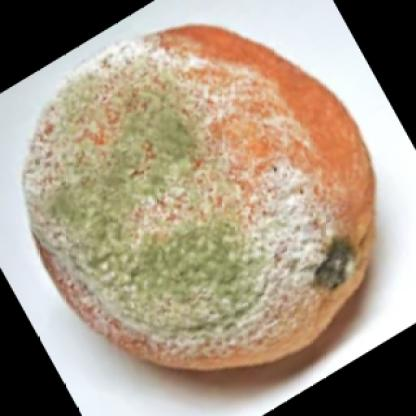rotten: (26, 26, 377, 374)
